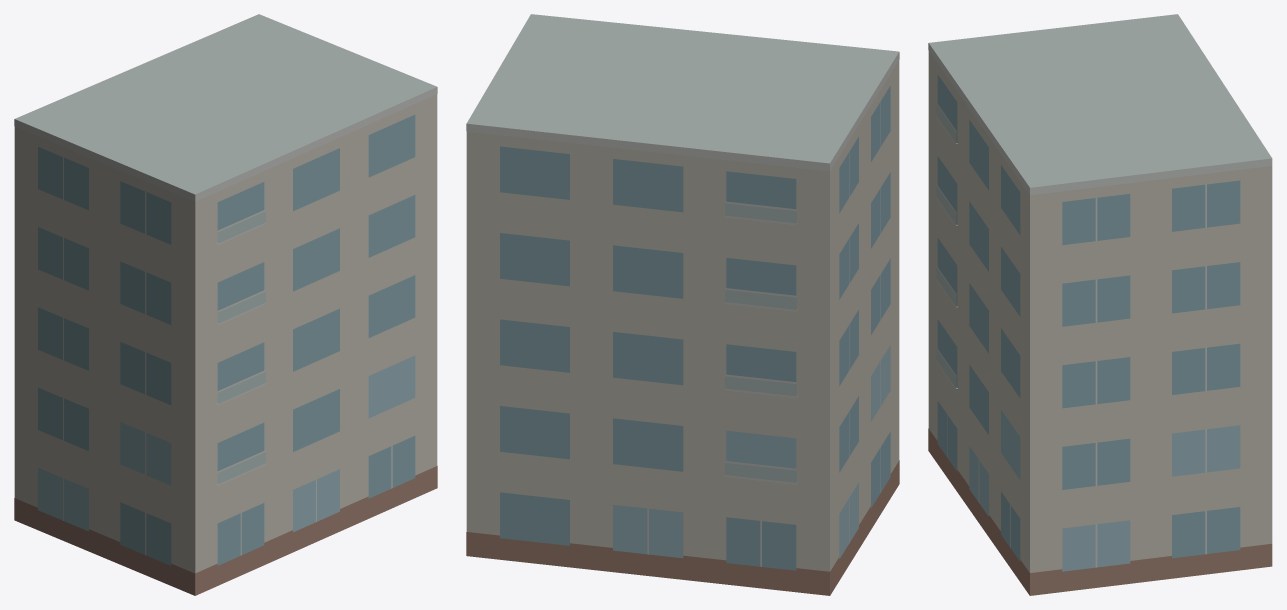
File: survey-upis-32958985.glb
The picture shows the model from 3 angles, left to right: view 1: azimuth 30°, elevation 25°; view 2: azimuth 150°, elevation 25°; view 3: azimuth 270°, elevation 25°; orthographic projection. The views are drawn at different scales.
Parts seen in each view (by area): view 1: survey-upis-32958985.tmp; view 2: survey-upis-32958985.tmp; view 3: survey-upis-32958985.tmp.
Boxes of the visible parts, x1,y1,x2,y2 form: survey-upis-32958985.tmp: (14, 14, 437, 595); survey-upis-32958985.tmp: (466, 14, 899, 595); survey-upis-32958985.tmp: (928, 14, 1272, 595).
Size of the model in its own units: 12.25 by 13.4 by 10.24.
